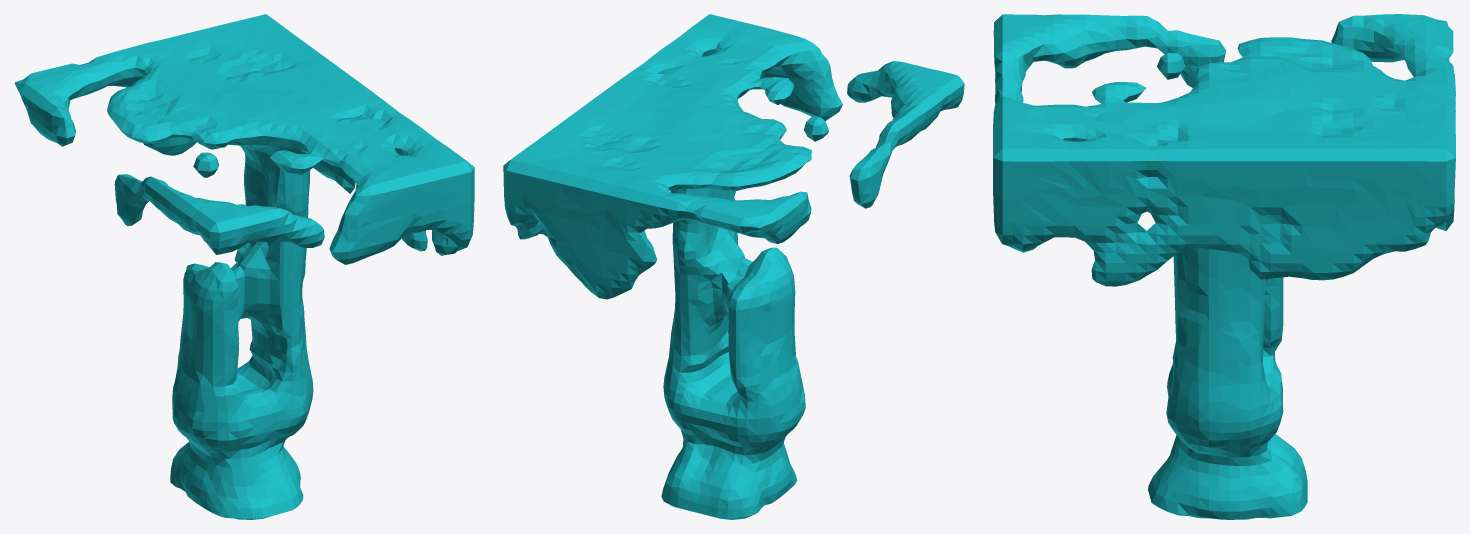
3 renders of one model, left to right at view 1: azimuth 30°, elevation 25°; view 2: azimuth 150°, elevation 25°; view 3: azimuth 270°, elevation 25°, orthographic. The views are drawn at different scales.
Visible parts, largest first — view 1: Liquid_Domain; view 2: Liquid_Domain; view 3: Liquid_Domain.
Boxes of the visible parts, left/top/right/bottom form: Liquid_Domain: left=14, top=14, right=474, bottom=519; Liquid_Domain: left=503, top=14, right=964, bottom=519; Liquid_Domain: left=993, top=14, right=1455, bottom=519.
Size of the model in its own units: 78.98 by 108 by 108.
